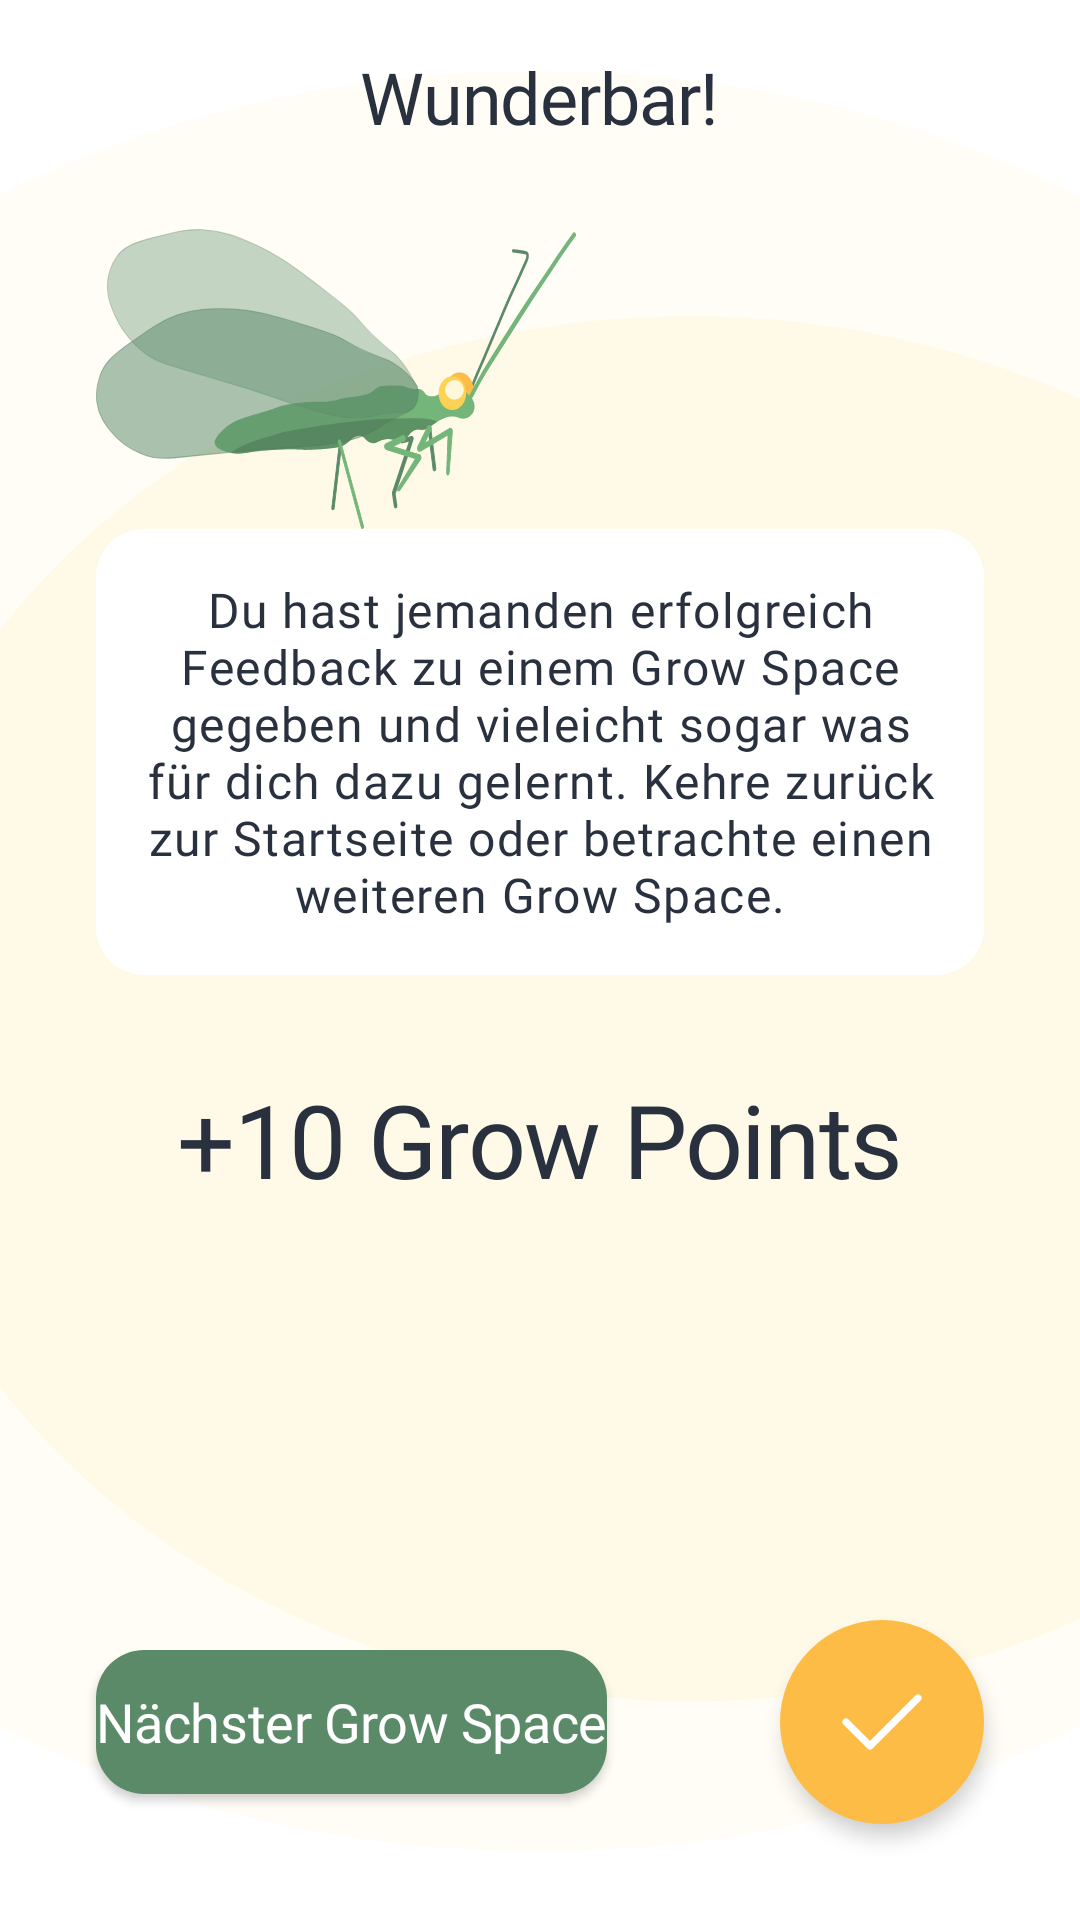

Where icons sit on this 1080*1920 app screen, as (x1, y1, x2, y2):
mark: (780, 1620, 984, 1824)
